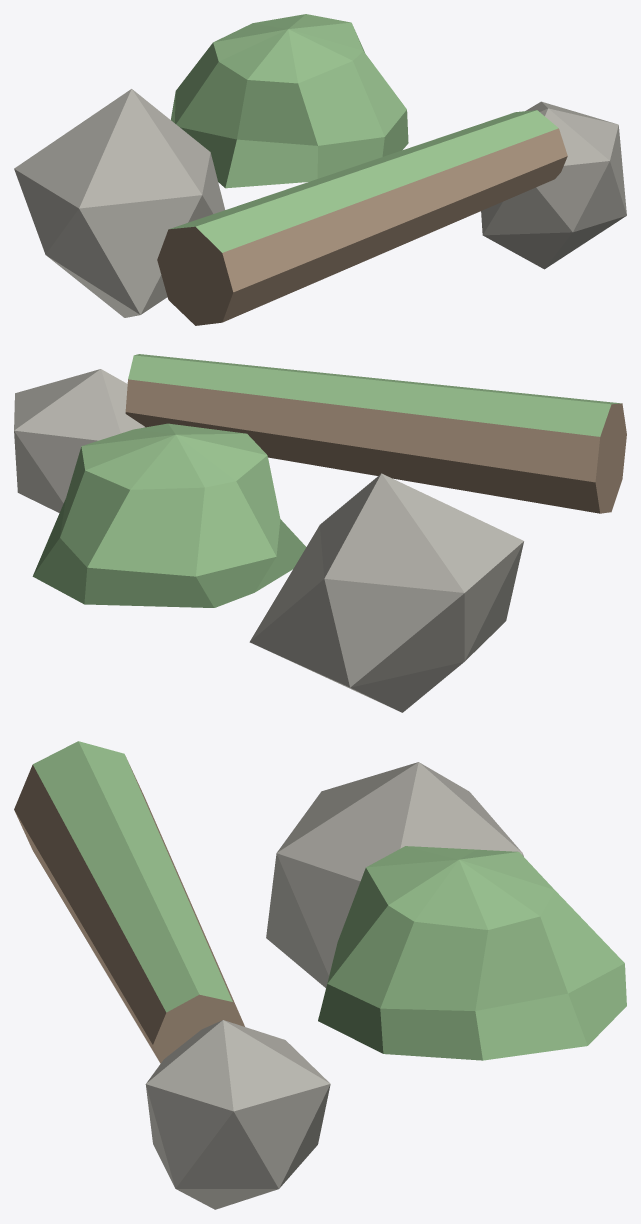
File: ASTX_VEG_FLOOR_A.glb
3 renders of one model, top to bottom at view 1: azimuth 30°, elevation 25°; view 2: azimuth 150°, elevation 25°; view 3: azimuth 270°, elevation 25°, orthographic. The views are drawn at different scales.
Parts seen in each view (by area): view 1: ASTX_VEG_FLOOR_A_log, ASTX_VEG_FLOOR_A_moss, ASTX_VEG_FLOOR_A_rock0, ASTX_VEG_FLOOR_A_rock1; view 2: ASTX_VEG_FLOOR_A_log, ASTX_VEG_FLOOR_A_rock0, ASTX_VEG_FLOOR_A_moss, ASTX_VEG_FLOOR_A_rock1; view 3: ASTX_VEG_FLOOR_A_moss, ASTX_VEG_FLOOR_A_log, ASTX_VEG_FLOOR_A_rock1, ASTX_VEG_FLOOR_A_rock0.
Boxes of the visible parts, x1,y1,x2,y2 form: ASTX_VEG_FLOOR_A_log: [157, 110, 567, 325]; ASTX_VEG_FLOOR_A_moss: [171, 14, 408, 188]; ASTX_VEG_FLOOR_A_rock0: [14, 89, 224, 317]; ASTX_VEG_FLOOR_A_rock1: [481, 101, 626, 269]; ASTX_VEG_FLOOR_A_log: [125, 354, 626, 513]; ASTX_VEG_FLOOR_A_rock0: [249, 473, 523, 712]; ASTX_VEG_FLOOR_A_moss: [32, 423, 306, 607]; ASTX_VEG_FLOOR_A_rock1: [14, 369, 144, 512]; ASTX_VEG_FLOOR_A_moss: [318, 846, 626, 1060]; ASTX_VEG_FLOOR_A_log: [14, 741, 244, 1063]; ASTX_VEG_FLOOR_A_rock1: [145, 1020, 330, 1209]; ASTX_VEG_FLOOR_A_rock0: [266, 762, 523, 987].
Size of the model in its own units: 1.39 by 0.592 by 1.17.
